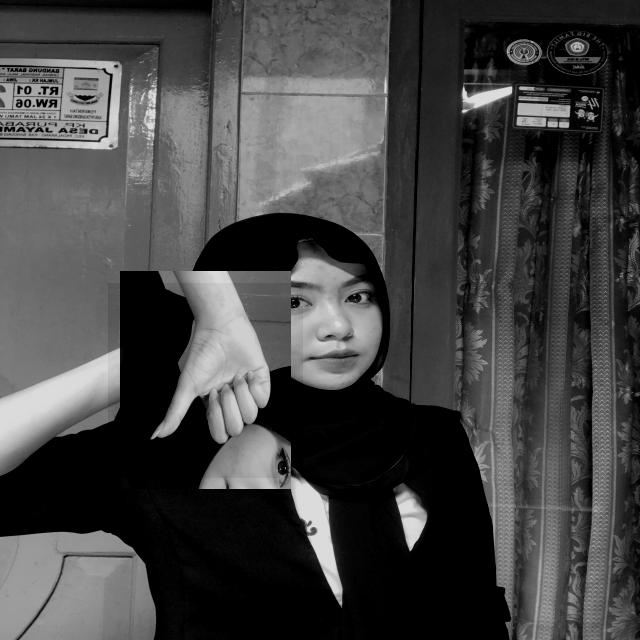sedih: (108, 283, 303, 478)
